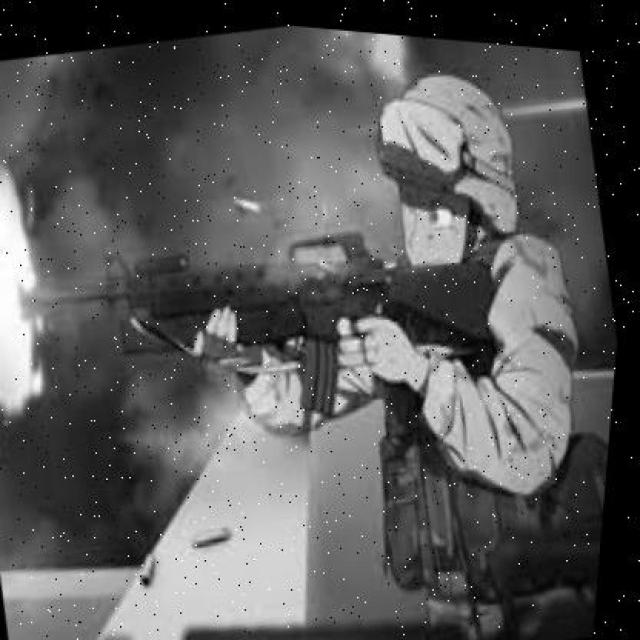weapon: (22, 231, 496, 418)
